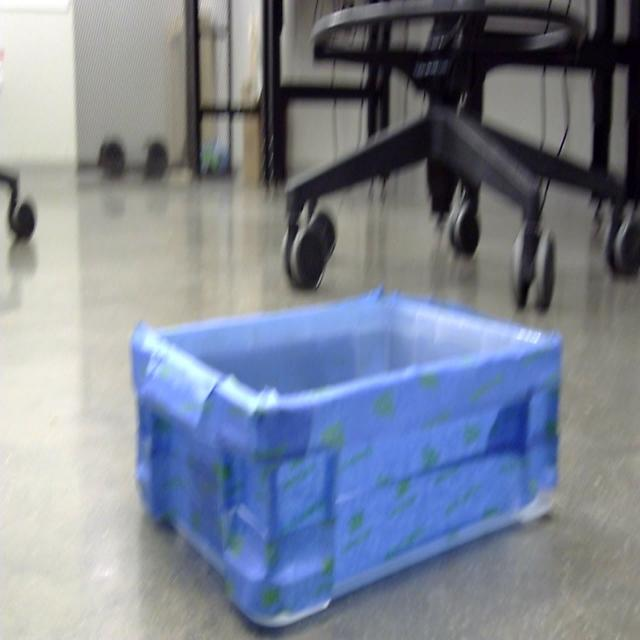bucket: (128, 287, 564, 632)
